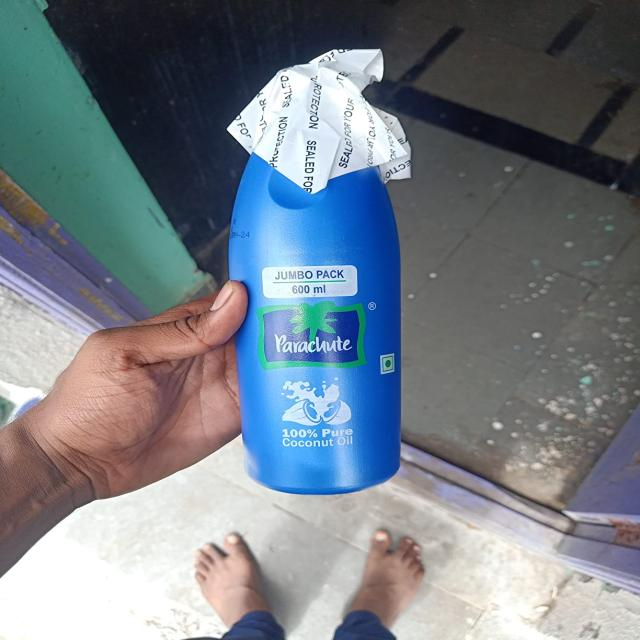parachute_oil: (226, 64, 416, 501)
